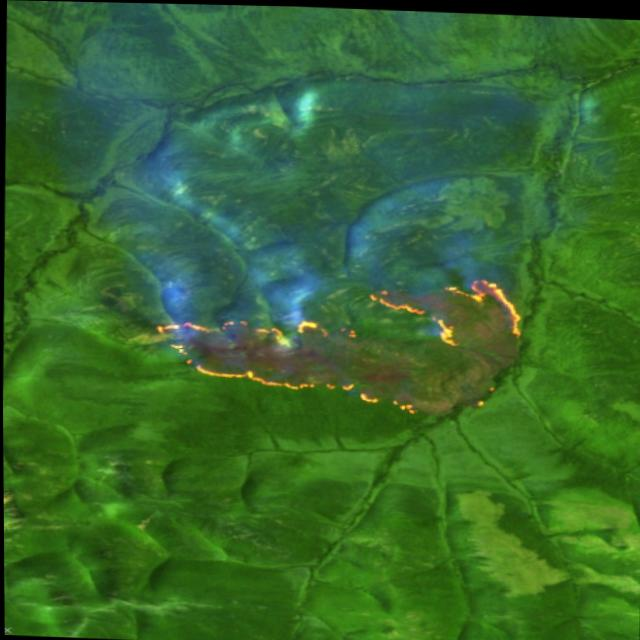fire: (142, 260, 540, 426)
